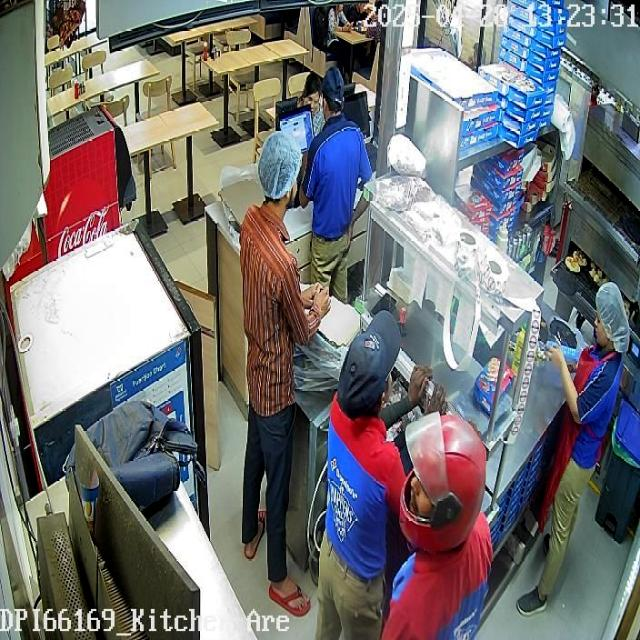helmet: (398, 412, 489, 550)
no_helmet: (337, 310, 401, 420), (258, 130, 303, 220), (594, 281, 630, 350)
